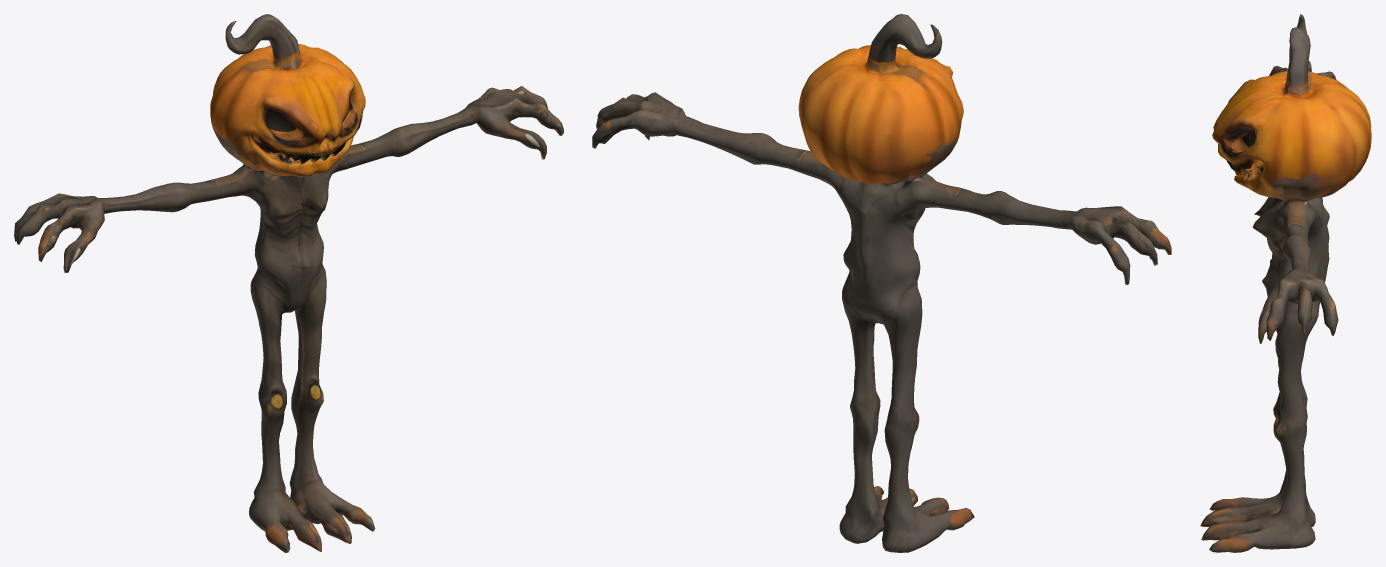
Rendered from 南瓜人.glb.
The picture shows the model from 3 angles, left to right: view 1: azimuth 30°, elevation 25°; view 2: azimuth 150°, elevation 25°; view 3: azimuth 270°, elevation 25°; orthographic projection. The views are drawn at different scales.
Bounding box in the file's own units: 2.01 × 1.82 × 0.5724.
Materials: 1 (1 with a texture image).
